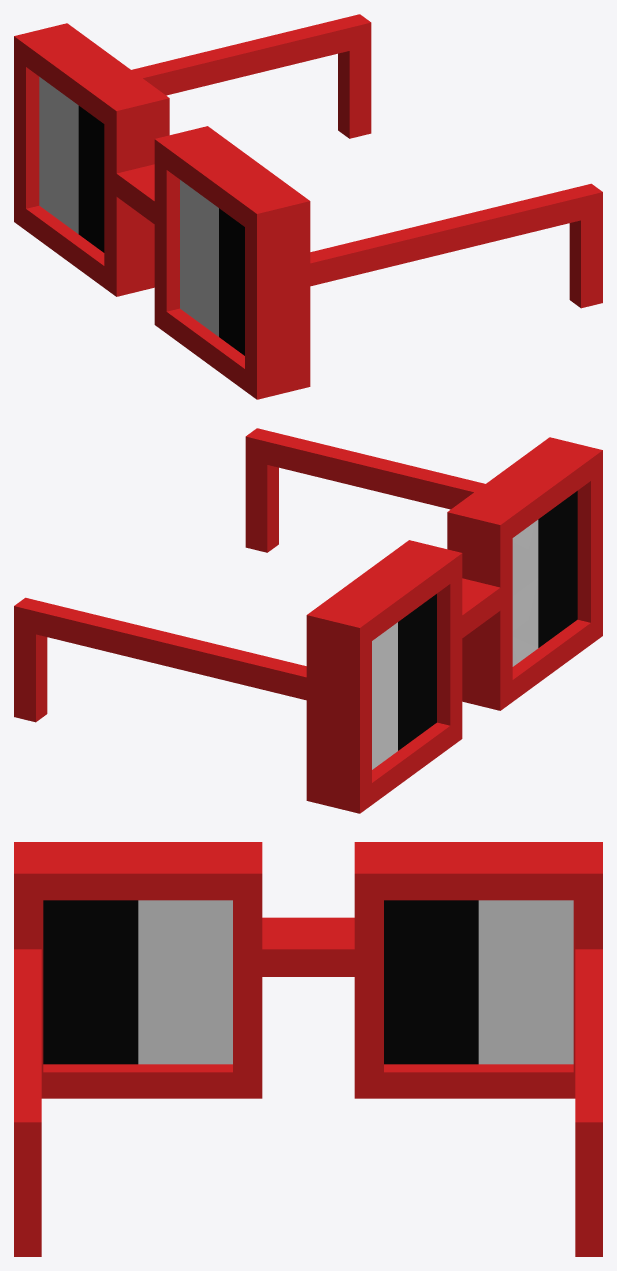
File: hat_noggles.glb
3 renders of one model, top to bottom at view 1: azimuth 30°, elevation 25°; view 2: azimuth 150°, elevation 25°; view 3: azimuth 270°, elevation 25°, orthographic. The views are drawn at different scales.
Size of the model in its own units: 0.1949 by 0.1 by 0.2371.
